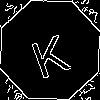K: (25, 25, 72, 80)
